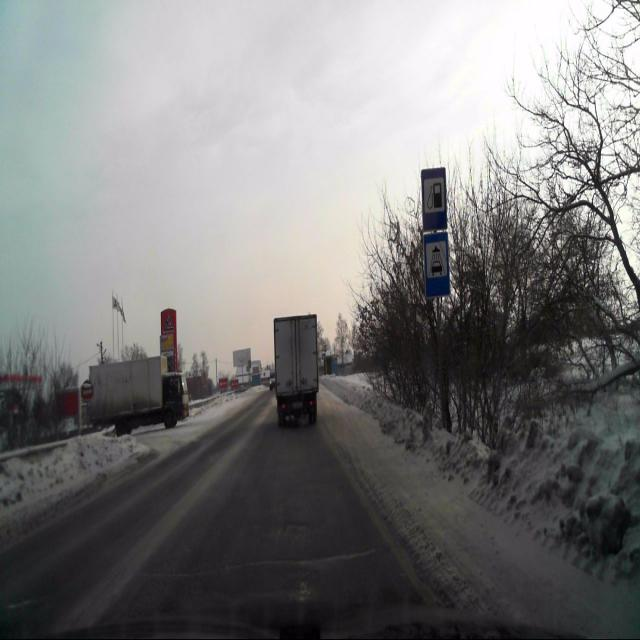road sign: (421, 168, 447, 230), (424, 233, 449, 296)
